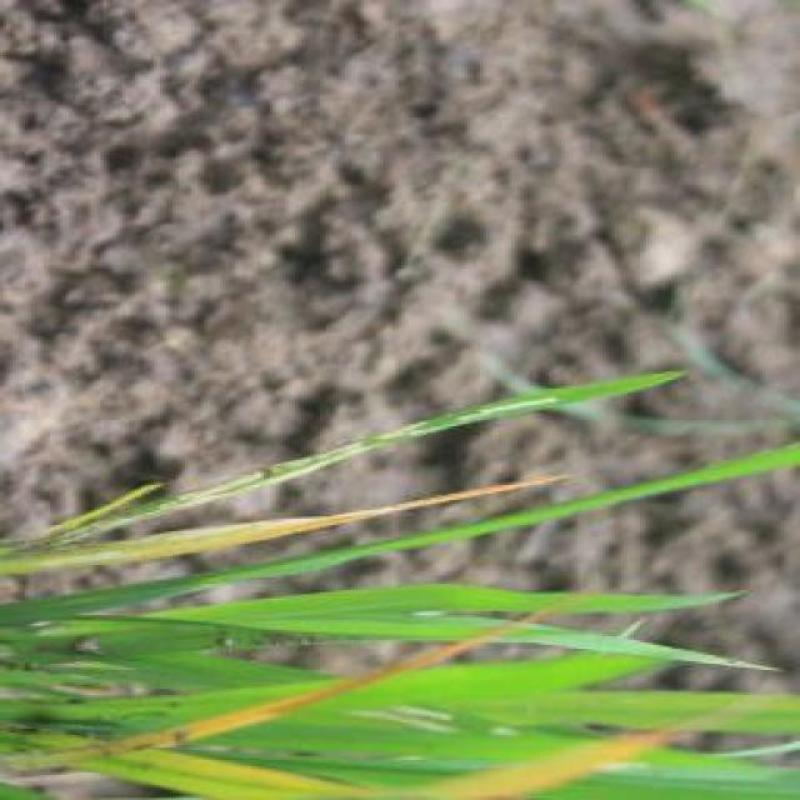Rice Tungro: (212, 462, 566, 522), (206, 642, 432, 718), (176, 754, 352, 800)
